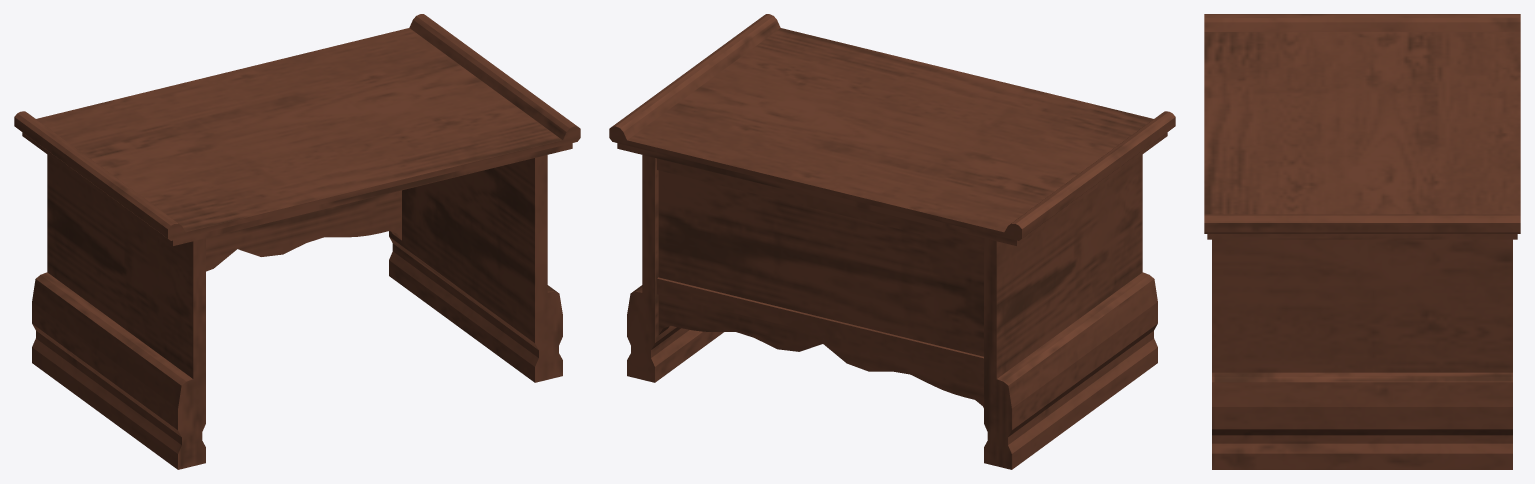
File: sitting_table.fbx
3 renders of one model, left to right at view 1: azimuth 30°, elevation 25°; view 2: azimuth 150°, elevation 25°; view 3: azimuth 270°, elevation 25°, orthographic. The views are drawn at different scales.
Visible parts, largest first — view 1: sitting_table; view 2: sitting_table; view 3: sitting_table.
Part boxes in pixels (x1,y1,x2,y2): sitting_table: (14, 14, 580, 469); sitting_table: (609, 14, 1175, 469); sitting_table: (1204, 14, 1520, 469).
Bounding box in the file's own units: 78.56 × 45.57 × 50.63.
